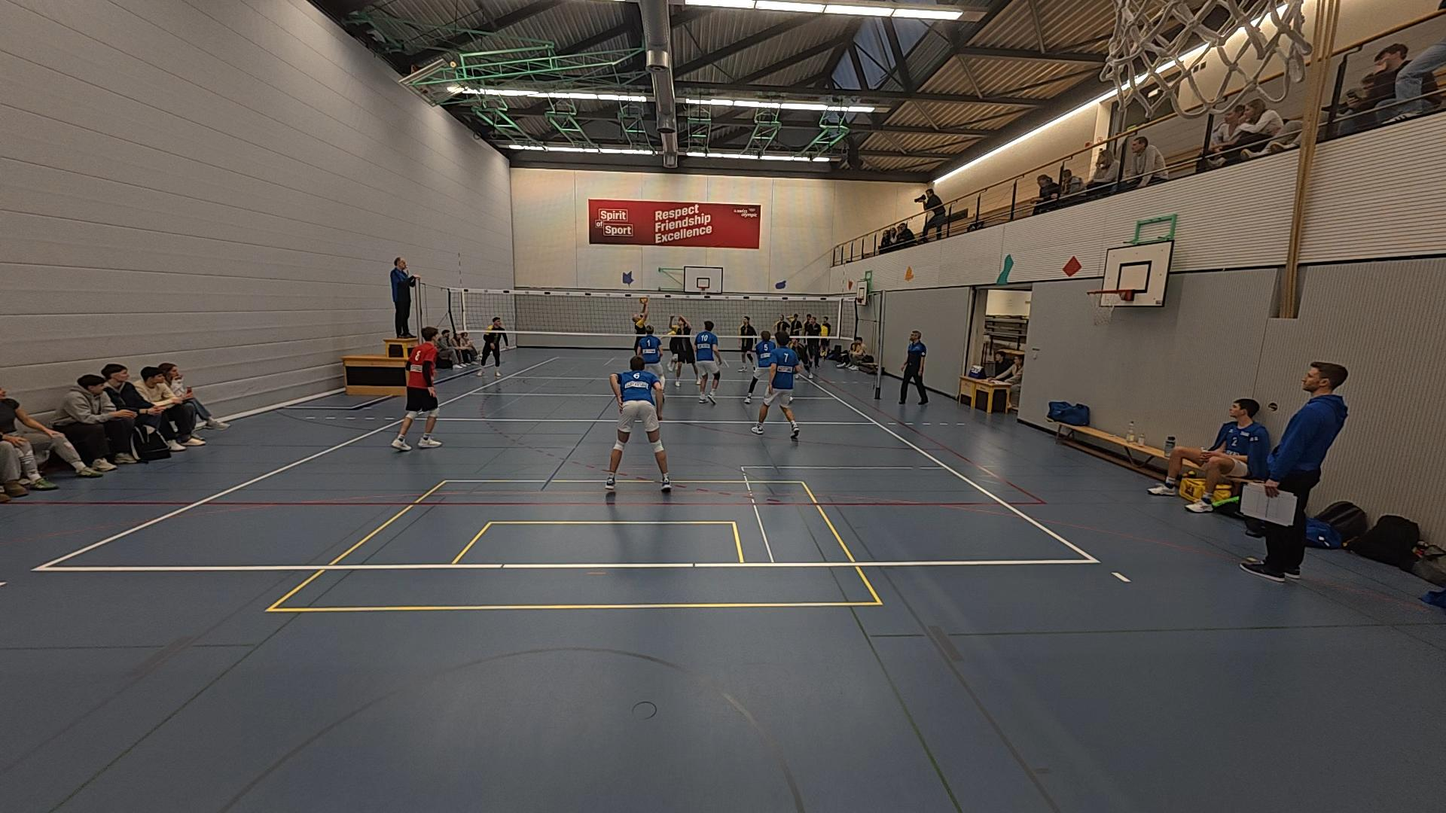alzata: (628, 294, 661, 366)
